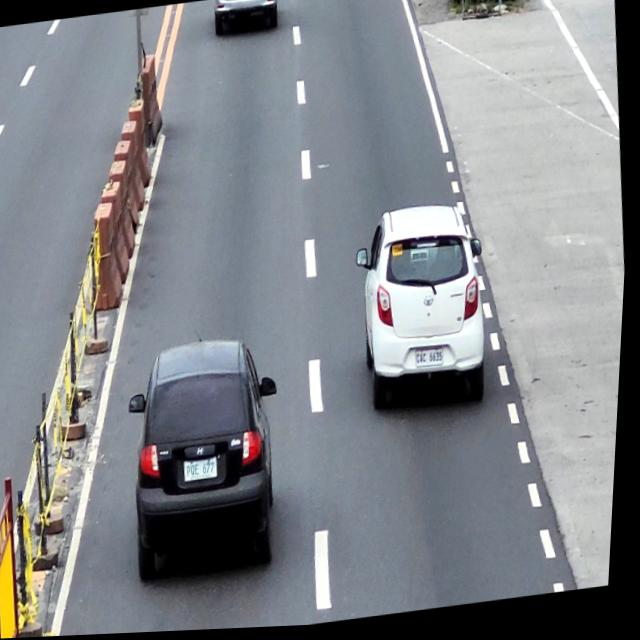Car: (121, 334, 298, 586), (349, 201, 500, 425), (211, 0, 281, 38)
License-Plate: (188, 460, 223, 482), (419, 351, 449, 373)
